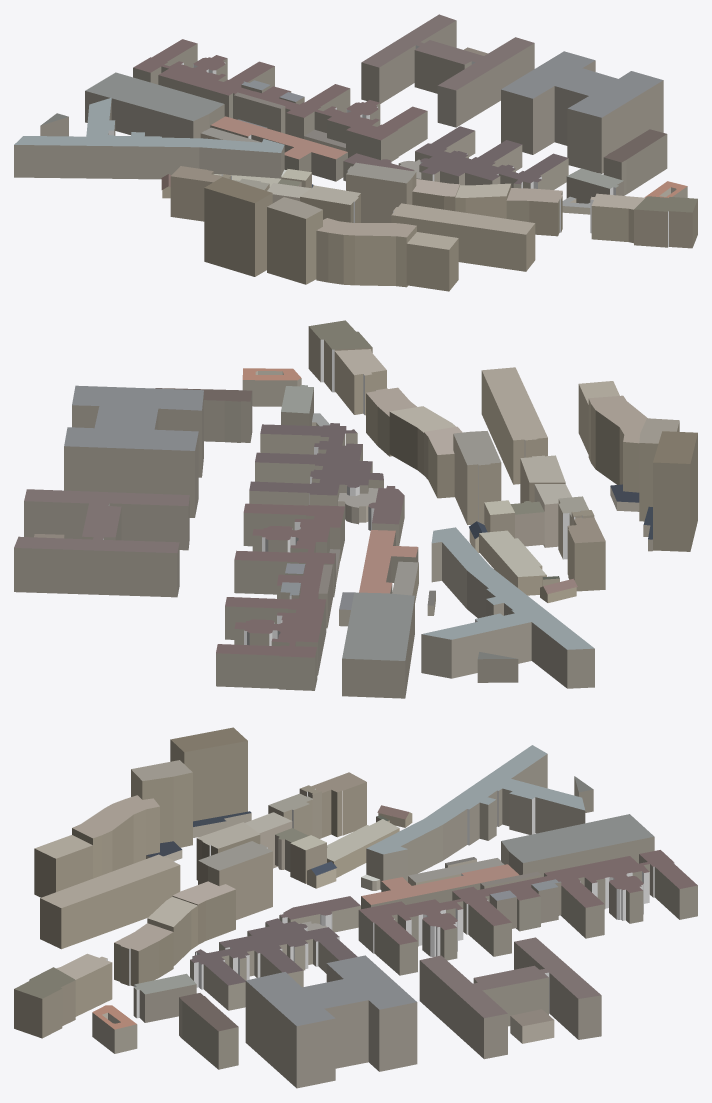
3 views of the same model, one above another, from view 1: azimuth 30°, elevation 25°; view 2: azimuth 150°, elevation 25°; view 3: azimuth 270°, elevation 25° (orthographic). The views are drawn at different scales.
Visible parts, largest first — view 1: tuile; view 2: tuile; view 3: tuile.
Part boxes in pixels (<box>): tuile: <box>14,14,697,291</box>; tuile: <box>14,320,697,698</box>; tuile: <box>14,727,697,1088</box>.
Bounding box in the file's own units: 319 × 49.72 × 315.
